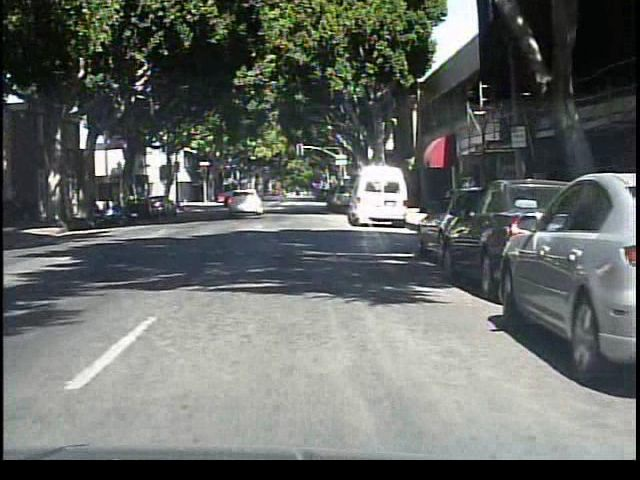person: (455, 166, 480, 228), (272, 175, 292, 208)
